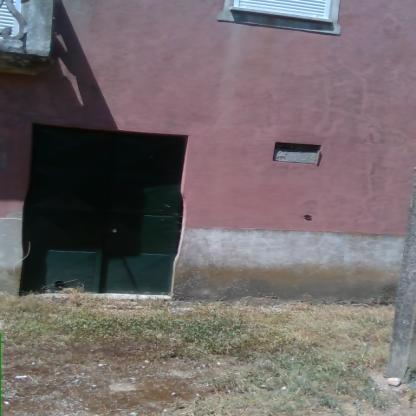closed: (19, 118, 190, 312)
